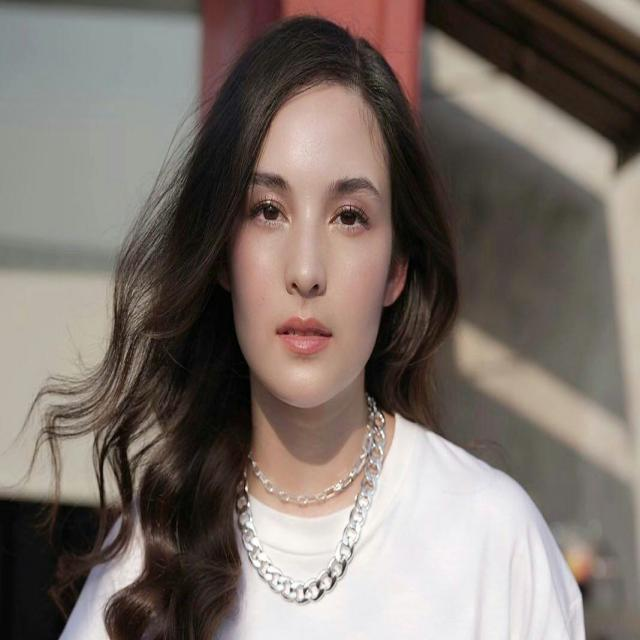sem_oculos: (218, 156, 406, 241)
